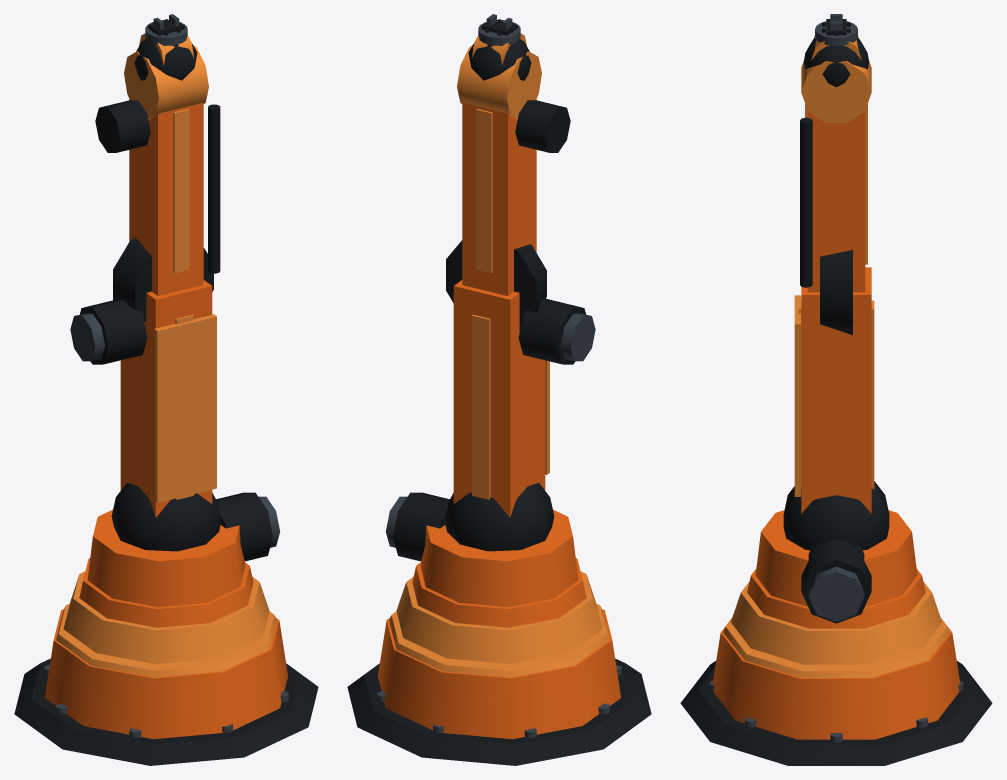
3 renders of one model, left to right at view 1: azimuth 30°, elevation 25°; view 2: azimuth 150°, elevation 25°; view 3: azimuth 270°, elevation 25°, orthographic.
Parts seen in each view (by area): view 1: base:pedestal, link:upper-arm-panel, base:plate, link:forearm, link:shoulder, joint-cover:j1, link:upper-arm, joint-cover:j2, joint-housing:j1, base:collar, joint-cover:j4, link:forearm-rib (+8 smaller); view 2: base:pedestal, link:upper-arm, base:plate, link:forearm, link:shoulder, joint-cover:j1, joint-cover:j2, joint-housing:j1, base:collar, link:upper-arm-rib, joint-cover:j4, link:forearm-rib (+8 smaller); view 3: base:pedestal, link:upper-arm, base:plate, joint-cover:j1, link:forearm, link:shoulder, joint-cover:j2, joint-housing:j1, base:collar, joint-cover:j4, joint-cover:j3, motor:j2 (+6 smaller).
Boxes of the visible parts, x1,y1,x2,y2 form: base:pedestal: (45,609,287,739); link:upper-arm-panel: (154,314,216,502); base:plate: (14,658,318,765); link:forearm: (129,99,203,295); link:shoulder: (87,509,245,607); joint-cover:j1: (63,571,269,664); link:upper-arm: (120,280,212,517); joint-cover:j2: (111,483,221,551); joint-housing:j1: (79,558,253,627); base:collar: (56,604,276,677); joint-cover:j4: (124,45,208,119); link:forearm-rib: (173,108,189,273); base:pedestal: (378,609,620,739); link:upper-arm: (453,280,545,517); base:plate: (347,658,651,765); link:forearm: (462,99,536,295); link:shoulder: (420,509,578,607); joint-cover:j1: (396,571,602,664); joint-cover:j2: (444,483,554,551); joint-housing:j1: (412,558,586,627); base:collar: (389,604,609,677); link:upper-arm-rib: (472,314,490,499); joint-cover:j4: (457,45,541,119); link:forearm-rib: (476,108,492,273); base:pedestal: (712,618,960,739); link:upper-arm: (801,267,871,513); base:plate: (680,661,992,765); joint-cover:j1: (731,581,941,664); link:forearm: (807,111,865,292); link:shoulder: (755,510,917,606); joint-cover:j2: (783,481,889,550); joint-housing:j1: (747,569,925,628); base:collar: (723,619,949,677); joint-cover:j4: (801,61,871,122); joint-cover:j3: (820,250,852,335); motor:j2: (801,539,871,623).
Size of the model in its own units: 1.47 by 3.75 by 1.55.
